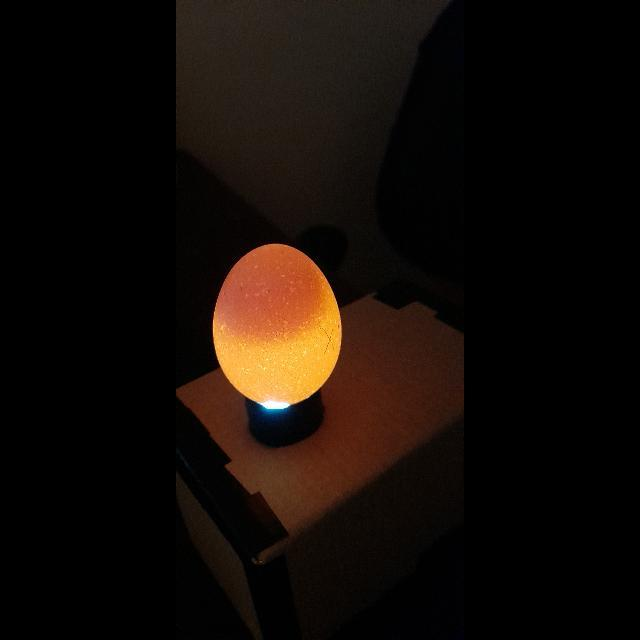Fertile: (214, 239, 342, 405)
